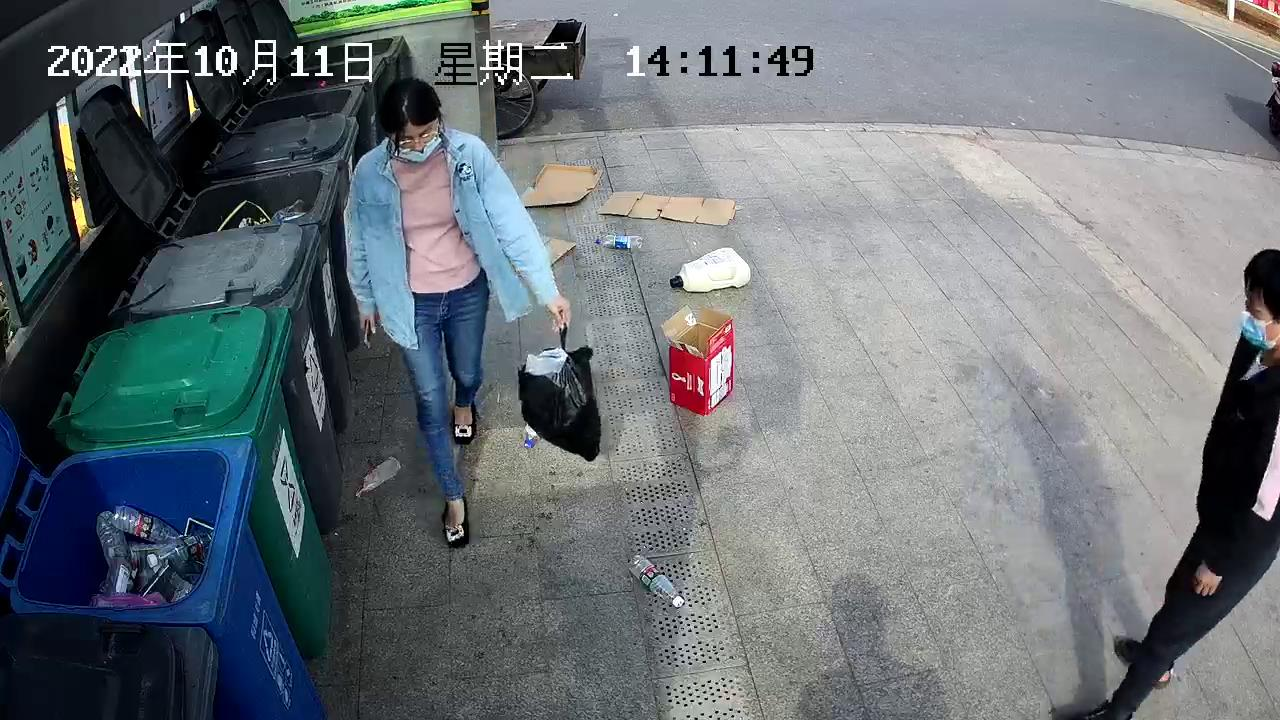garbage-bag: (514, 320, 604, 464)
person: (1051, 248, 1280, 716)
suliaozhipin: (666, 244, 753, 296), (624, 552, 688, 610), (353, 452, 403, 498), (592, 231, 644, 251)
worker: (338, 76, 572, 548)
zhizhipin: (657, 303, 737, 417), (598, 189, 739, 232), (520, 161, 604, 209)
